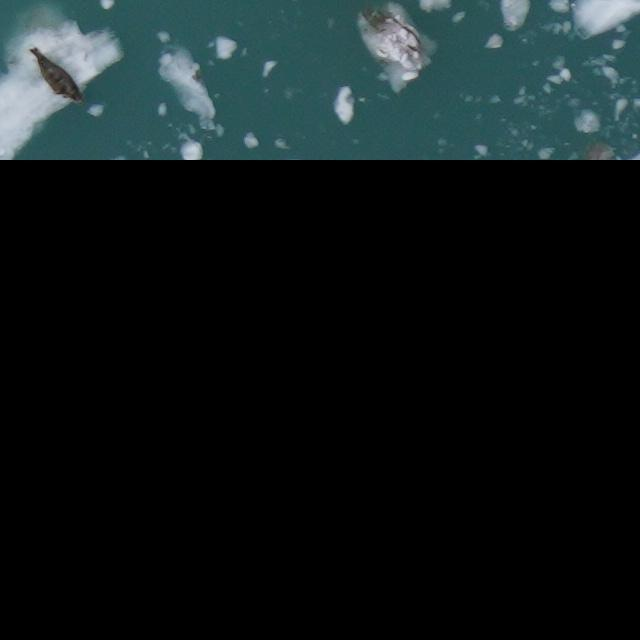seal: (20, 44, 92, 111)
